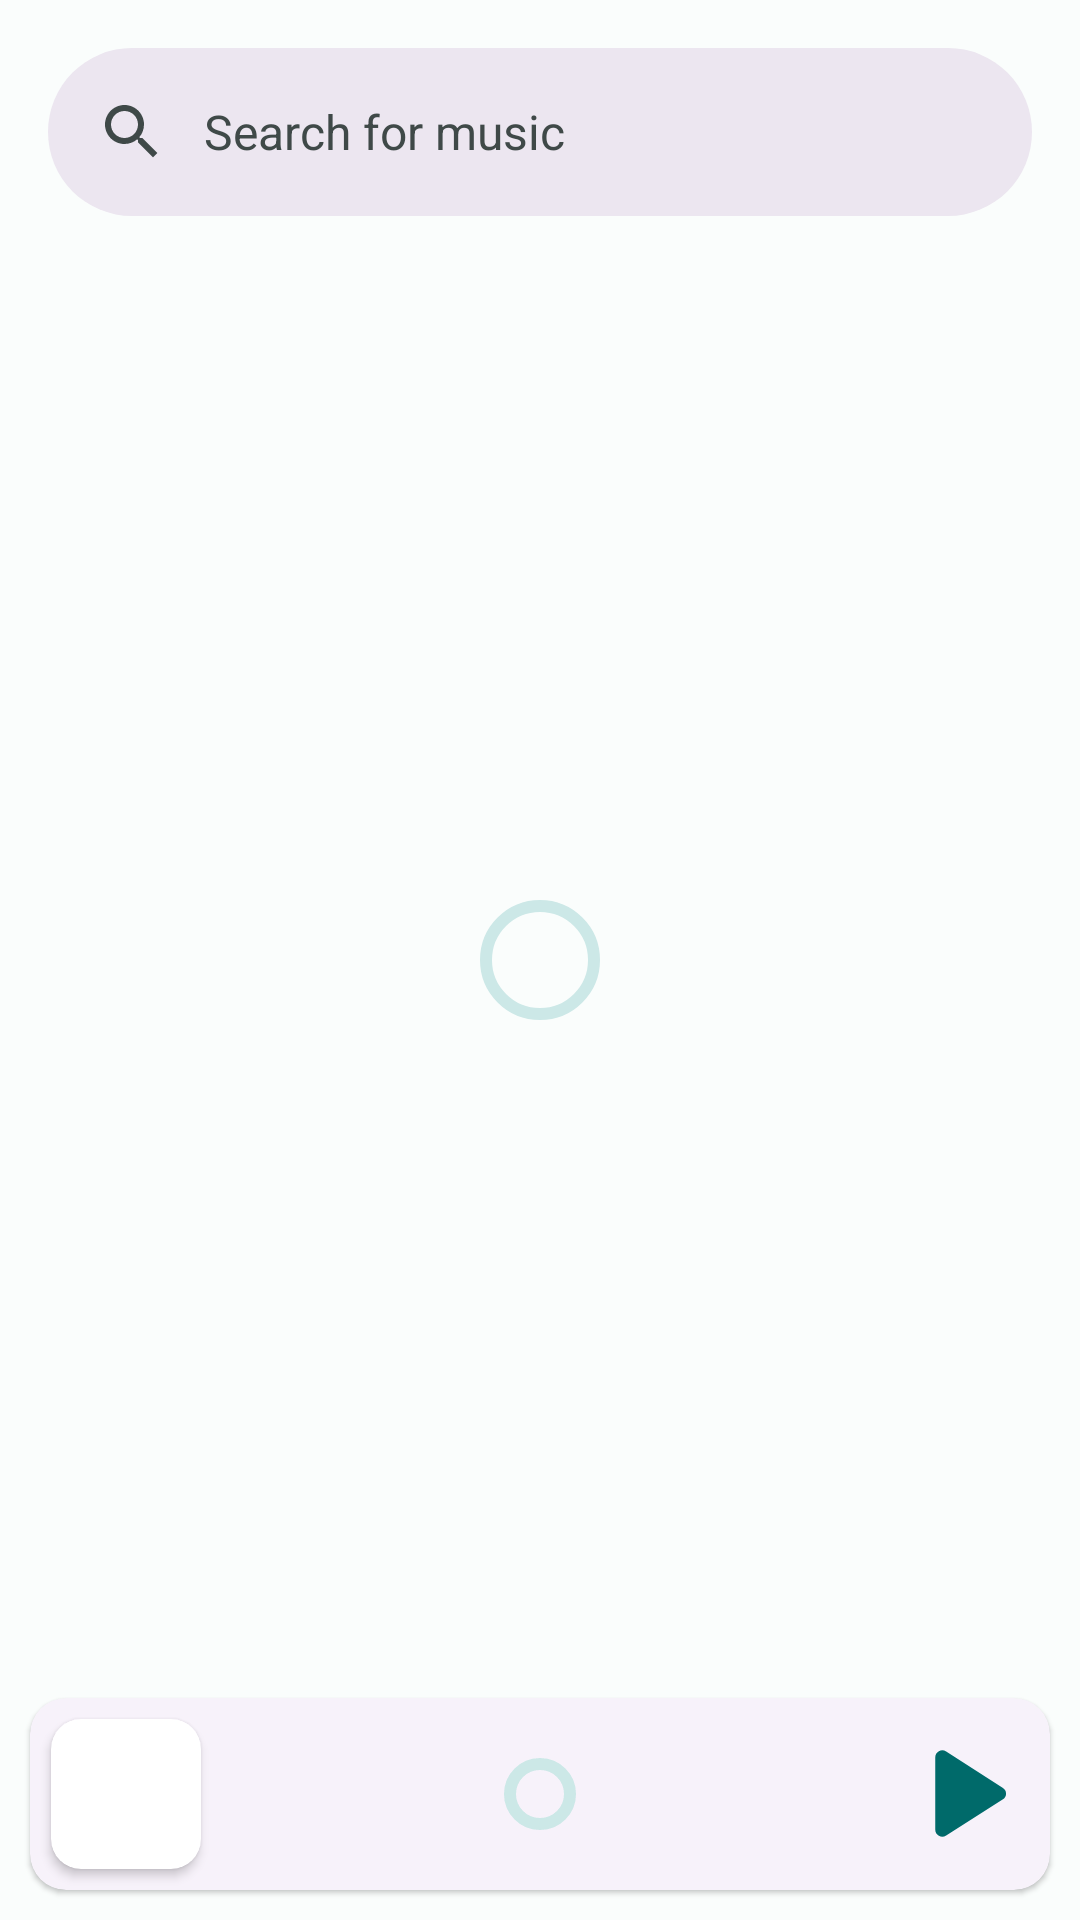

Named icons in this screenshot (1080 x 1920) and their bounding boxes, (left=x1, top=y1, right=x2, bottom=y2):
play arrow: (left=935, top=1750, right=1006, bottom=1837)
